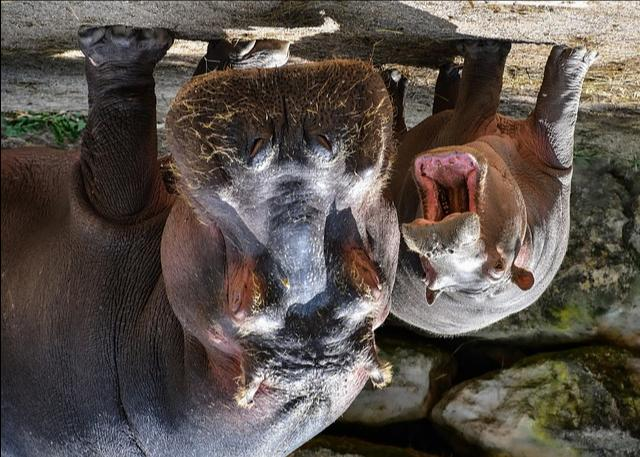Non_Gorille: (90, 47, 598, 434)
